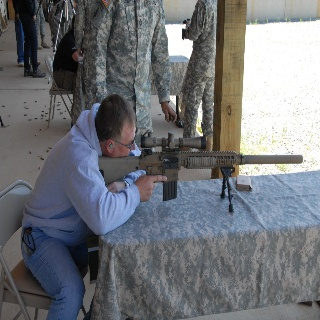rifle: (97, 132, 304, 215)
